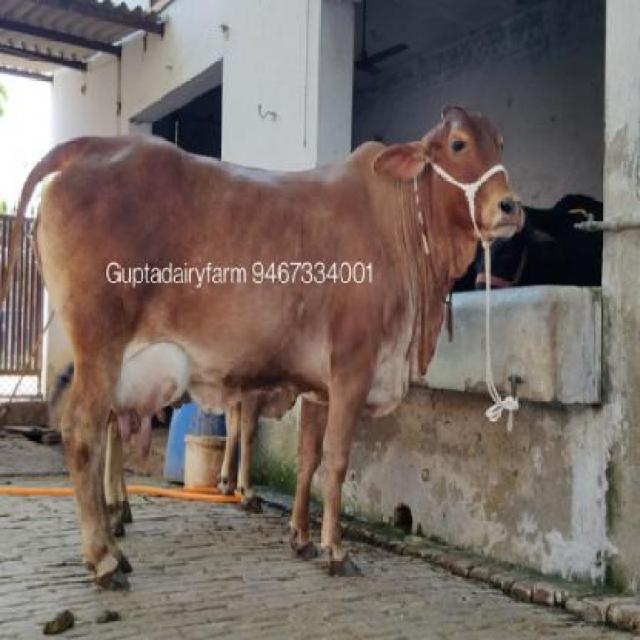Cow: (0, 106, 525, 597)
